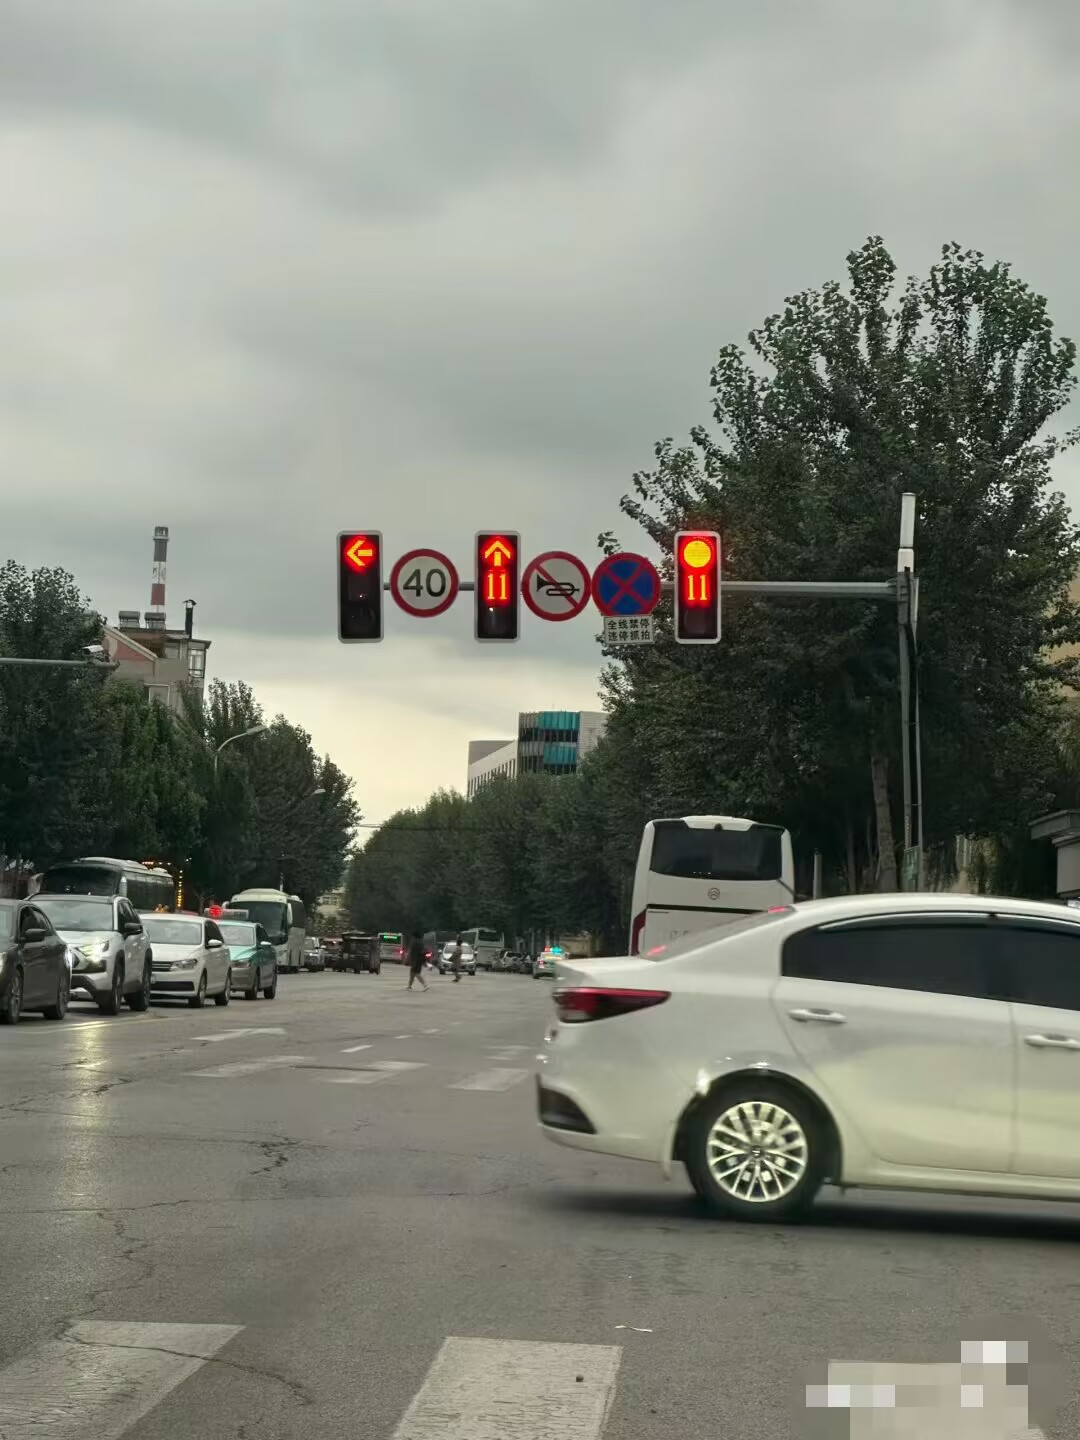p11: (524, 554, 591, 622)
pl40: (389, 547, 462, 618)
pn: (594, 553, 659, 626)
